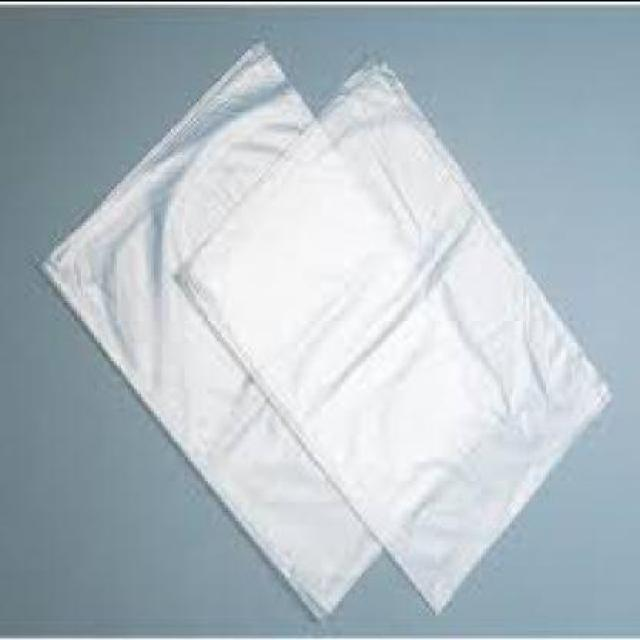PLASTIC: (44, 45, 610, 616)
